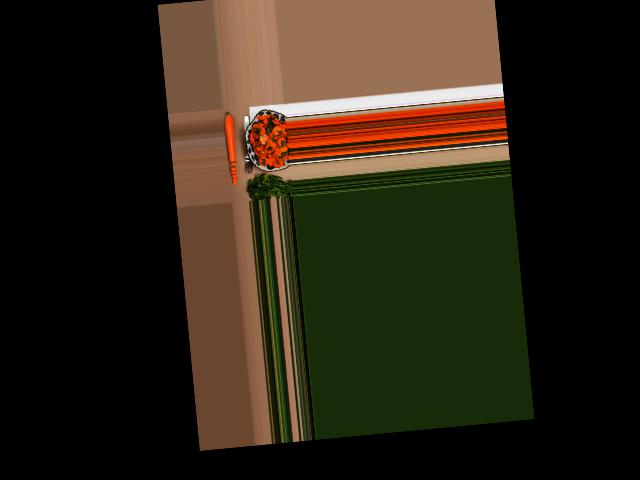carrot: (221, 112, 236, 162)
